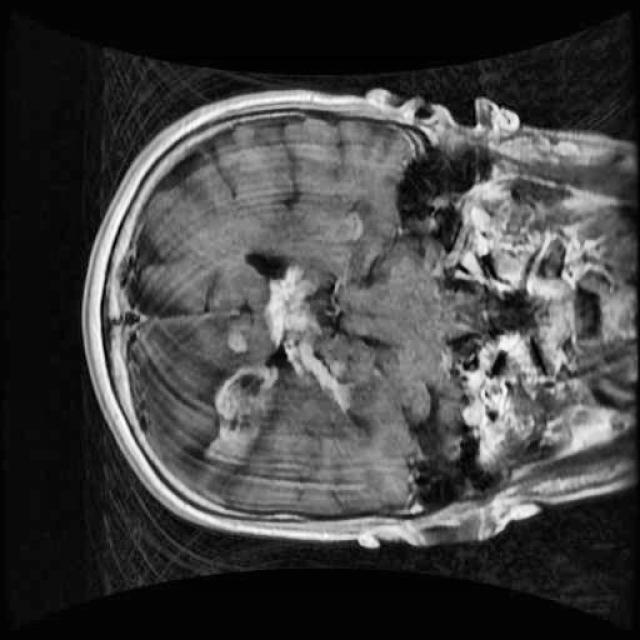Tumor: (186, 250, 372, 480)
